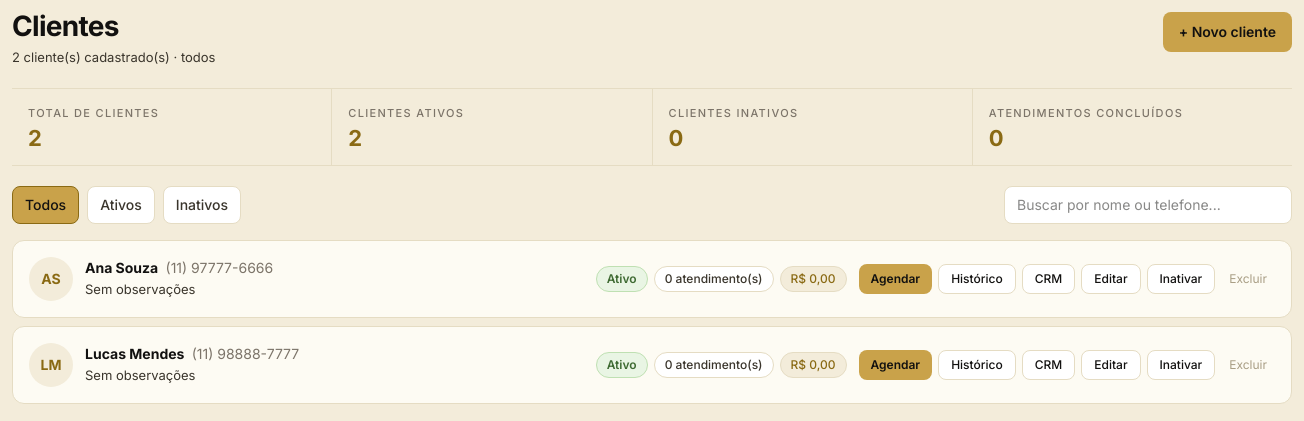
Test case: Clientes — página (filtros, status e ações) › filtro Inativos, Inativar e Reativar preservam cadastro e histórico
Step 1. Click the button with aria-label "Inativar Ana Souza" → [1181, 279], box [1146, 264, 1215, 294]
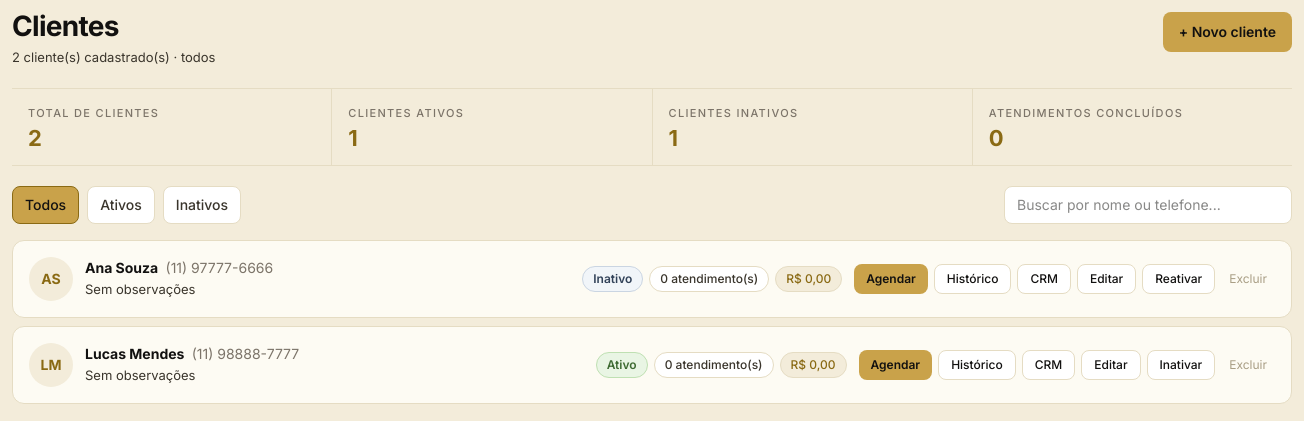
Step 2. Click the button "Inativos" → [202, 205], box [163, 186, 241, 224]
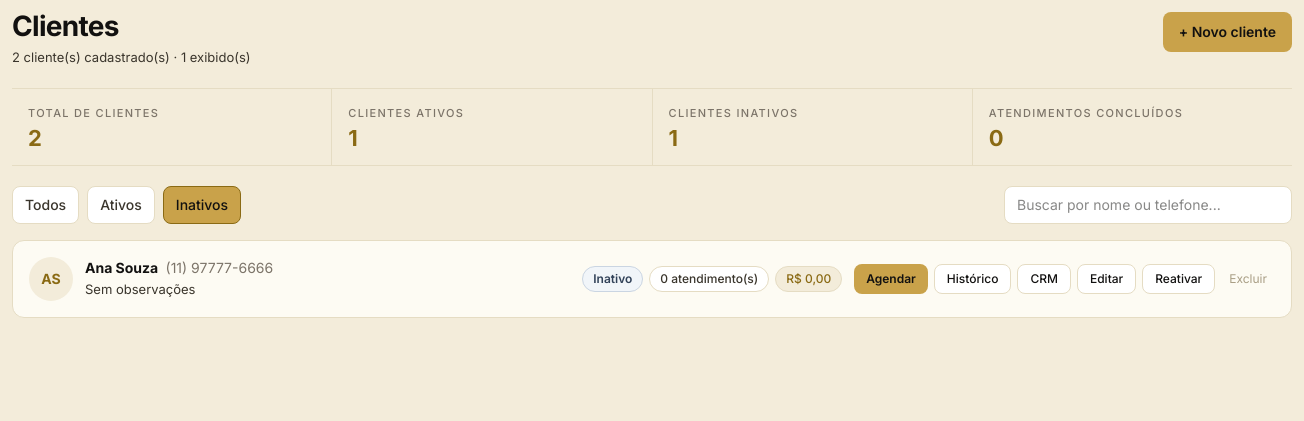
Expected: the text "Ana Souza" is shown, [85, 259, 158, 276]
Result: the text "Inativo" is shown at [582, 266, 643, 292]
Result: the text "Lucas Mendes" is gone
Step 3. Click the button with aria-label "Reativar Ana Souza" → [1179, 279], box [1142, 264, 1215, 294]
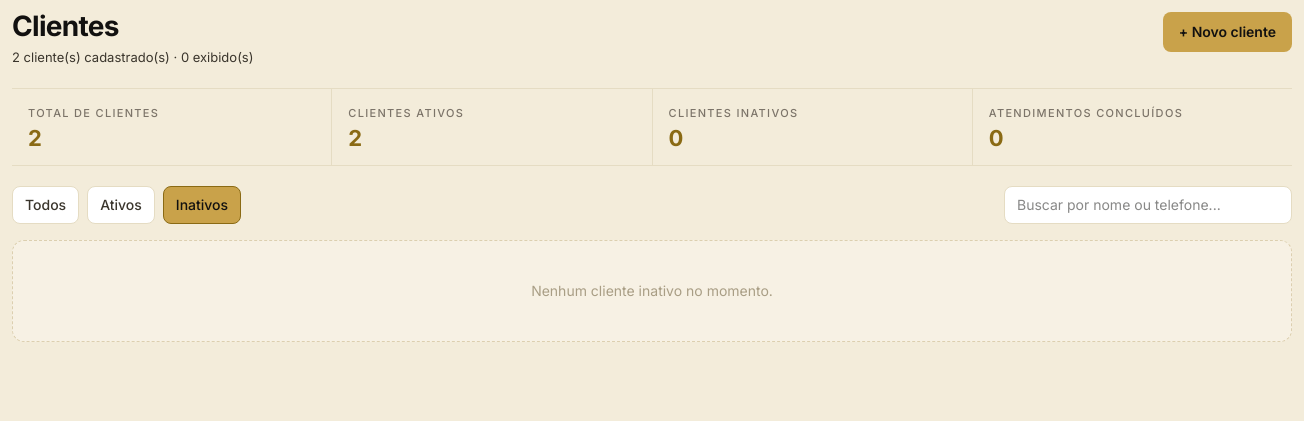
Result: the text "Ana Souza" is gone
Result: the text "Nenhum cliente inativo no momento." is shown at [12, 240, 1292, 342]
Step 4. Click the button "Todos" → [46, 205], box [12, 186, 79, 224]
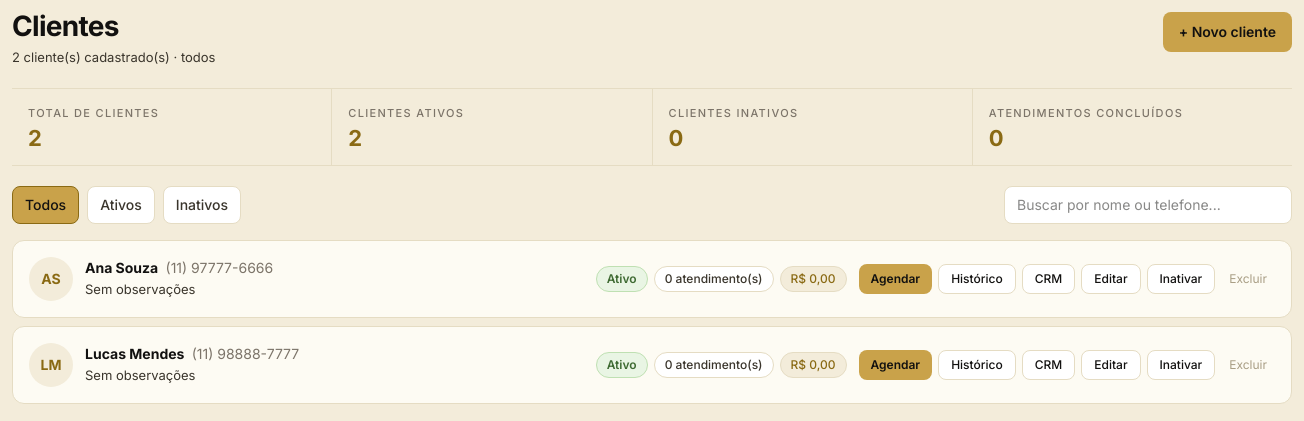
Result: the text "Ana Souza" is shown at [85, 259, 158, 276]
